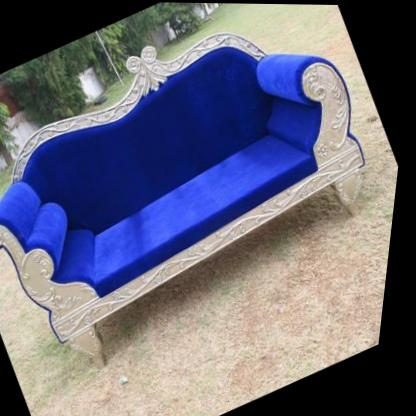Sofa: (0, 0, 416, 399)
